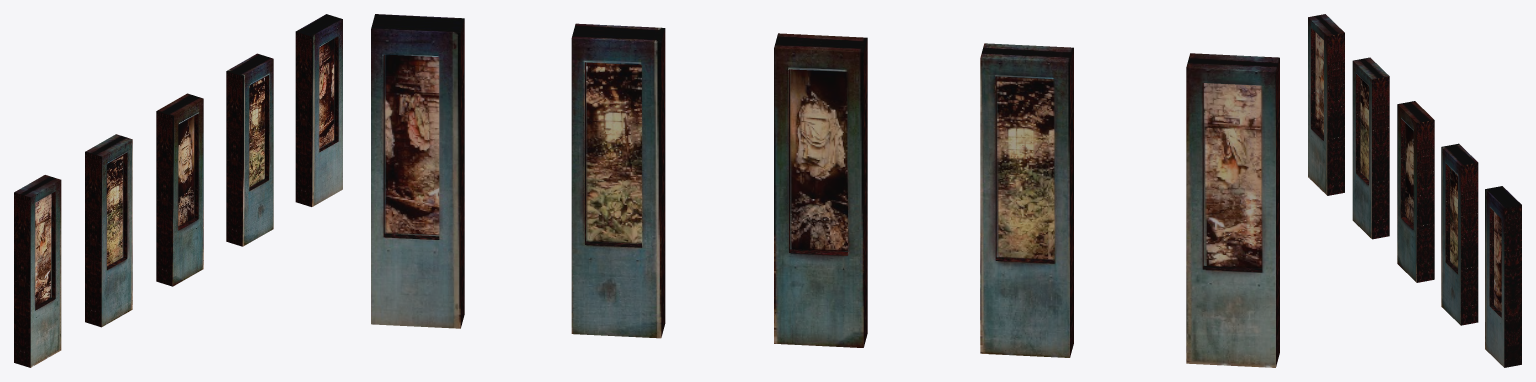
File: monument.FBX
3 renders of one model, left to right at view 1: azimuth 30°, elevation 25°; view 2: azimuth 150°, elevation 25°; view 3: azimuth 270°, elevation 25°, orthographic. The views are drawn at different scales.
Visible parts, largest first — view 1: Component#1_002, Component#1_001; view 2: Component#1_001, Component#1_002; view 3: Component#1_002, Component#1_001.
Boxes of the visible parts, box(x1,y1,x2,y2) form: Component#1_002: box(22, 16, 342, 367); Component#1_001: box(14, 14, 334, 365); Component#1_001: box(371, 21, 1277, 367); Component#1_002: box(373, 14, 1279, 358); Component#1_002: box(1308, 15, 1513, 367); Component#1_001: box(1317, 14, 1521, 366).
Bounding box in the file's own units: 69.83 × 26.81 × 32.53.
Materials: 1 (1 with a texture image).
